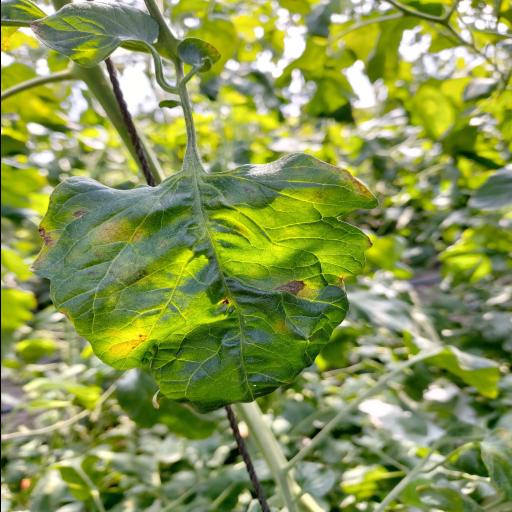disease_tomato: (30, 154, 376, 416)
